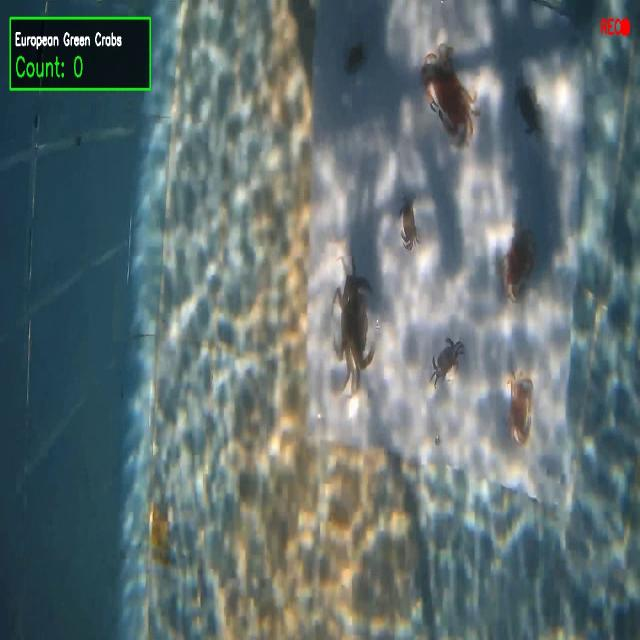European_Green_Crab: (326, 240, 379, 403), (422, 323, 468, 393), (506, 70, 550, 142)
